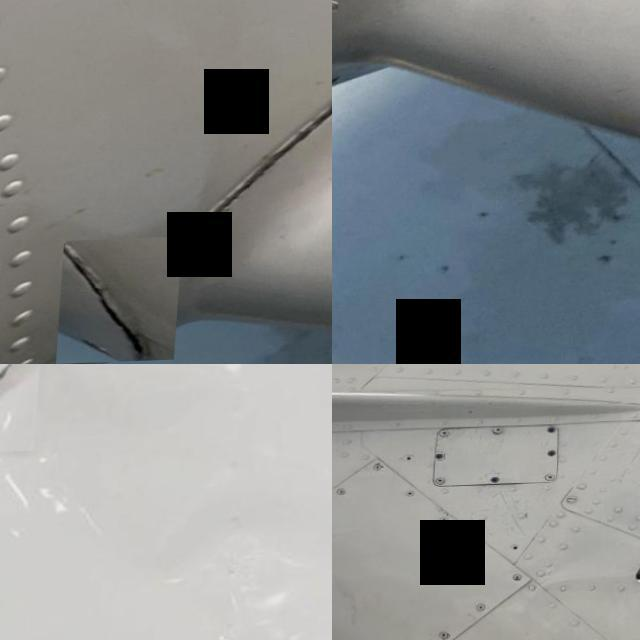Crack: (188, 54, 332, 214), (63, 239, 188, 364)
Missing_Fastener: (194, 230, 236, 272), (551, 452, 561, 460), (550, 430, 560, 437), (495, 479, 505, 486), (440, 457, 450, 463), (410, 458, 416, 462), (518, 550, 522, 552)
